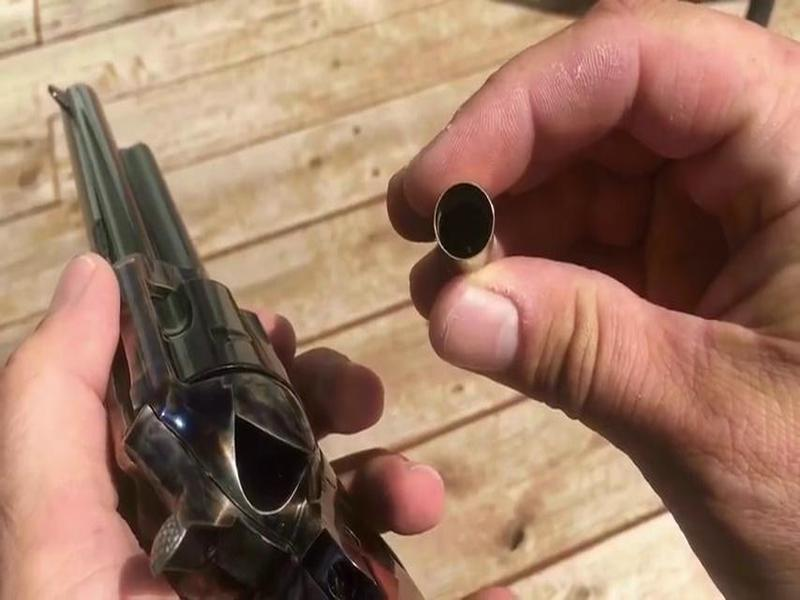Revolver: (49, 77, 347, 600)
